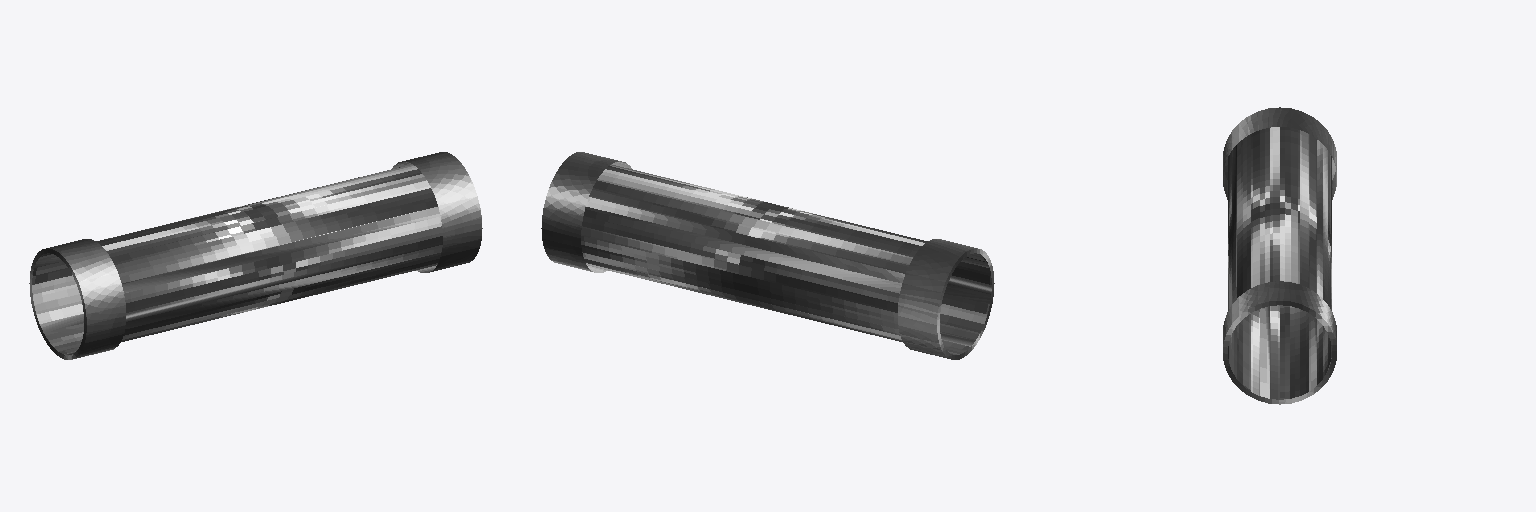
3 views of the same model, side by side, from view 1: azimuth 30°, elevation 25°; view 2: azimuth 150°, elevation 25°; view 3: azimuth 270°, elevation 25° (orthographic).
Parts seen in each view (by area): view 1: Circle; view 2: Circle; view 3: Circle.
Boxes of the visible parts, <box> form: Circle: <box>29,152,482,359</box>; Circle: <box>541,152,994,359</box>; Circle: <box>1223,107,1336,404</box>.
Bounding box in the file's own units: 1 × 0.2515 × 0.2515.
Materials: 1 (1 with a texture image).